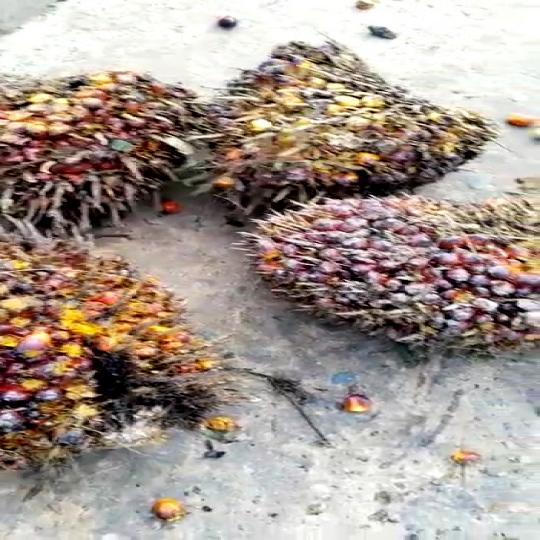masak: (0, 234, 279, 493), (154, 43, 496, 206), (224, 190, 540, 360), (0, 67, 231, 264)
